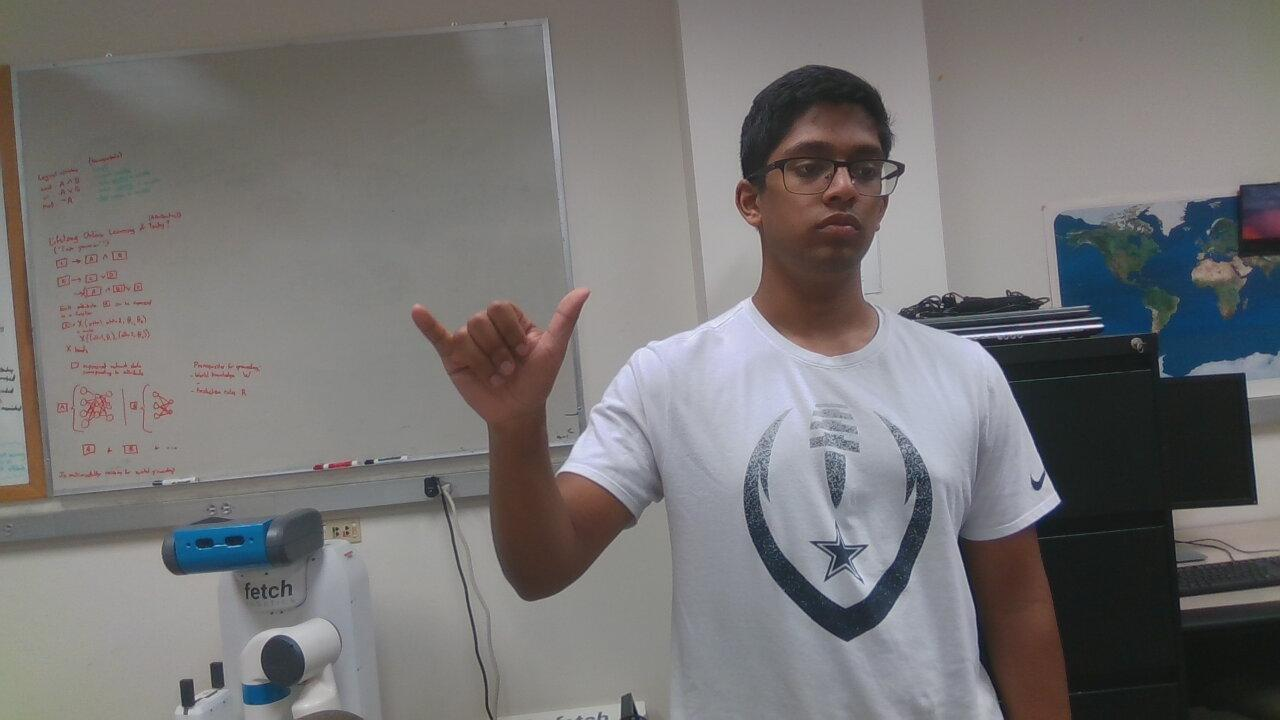hands: (382, 265, 628, 440)
